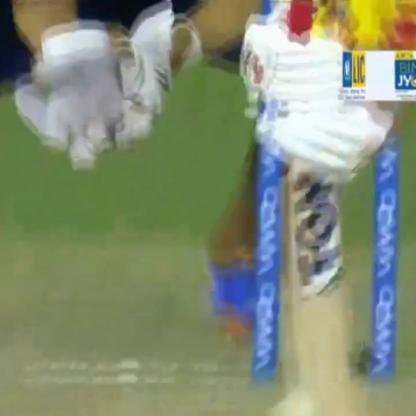ball: (268, 382, 313, 416)
bat: (241, 8, 363, 416)
